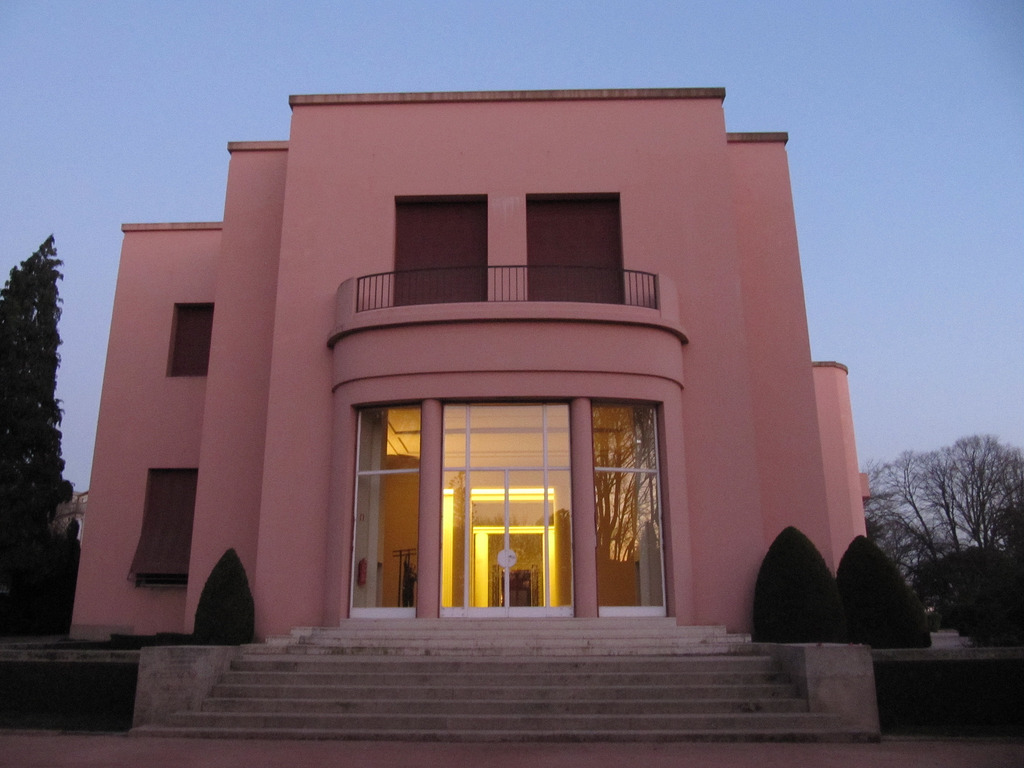serralves: (74, 83, 877, 645)
